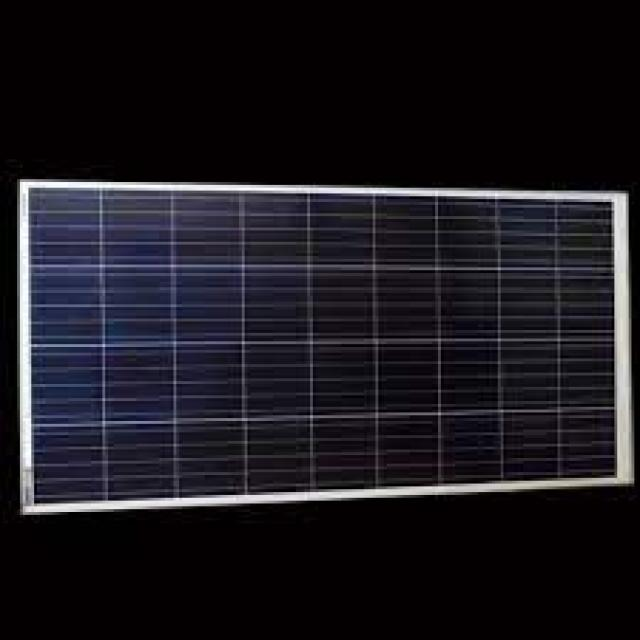no faulty: (41, 197, 627, 490)
